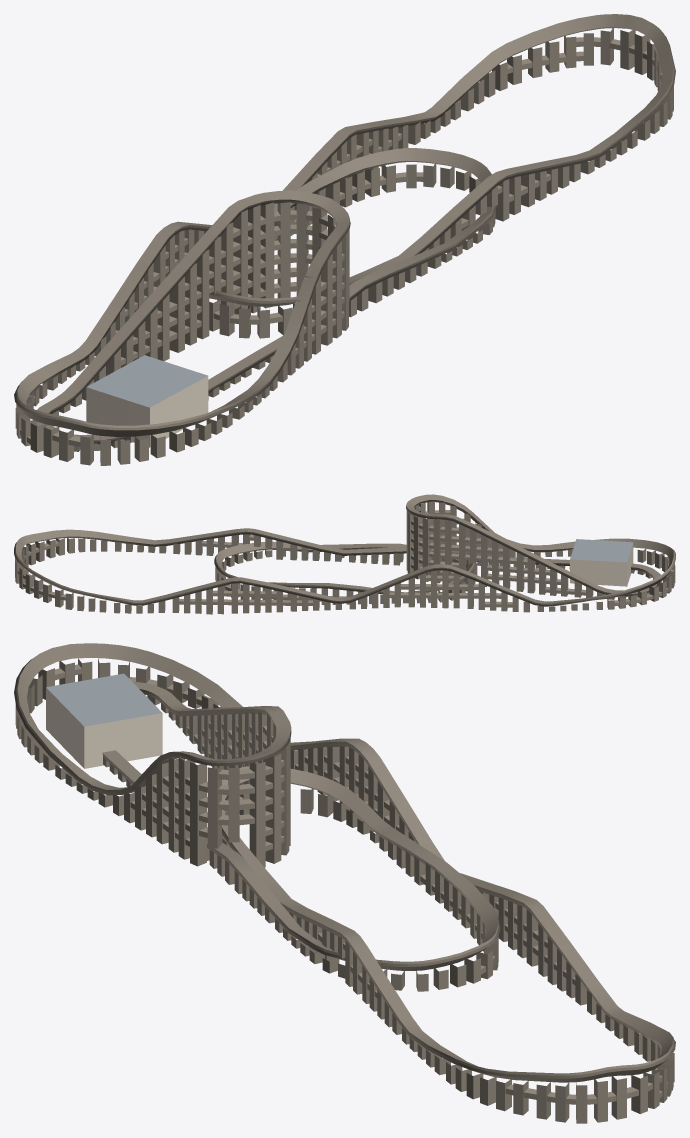
File: carowinds-hurler.glb
3 views of the same model, one above another, from view 1: azimuth 30°, elevation 25°; view 2: azimuth 150°, elevation 25°; view 3: azimuth 270°, elevation 25° (orthographic). The views are drawn at different scales.
Parts seen in each view (by area): view 1: Hurler; view 2: Hurler; view 3: Hurler.
Part boxes in pixels (left/top/right/bottom): Hurler: left=14, top=14, right=675, bottom=465; Hurler: left=14, top=494, right=675, bottom=614; Hurler: left=14, top=643, right=675, bottom=1123.
Size of the model in its own units: 212 by 30.68 by 135.
